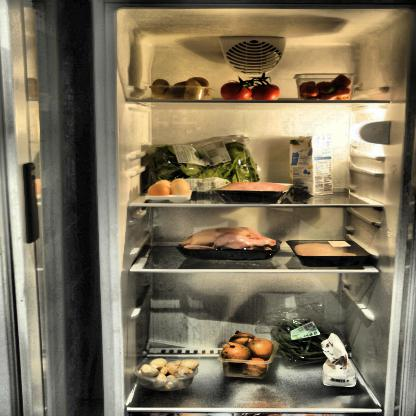chicken: (174, 226, 278, 260), (293, 242, 362, 262)
eggs: (146, 177, 188, 199)
green_beans: (267, 318, 349, 366)
ground_beef: (233, 182, 310, 203)
milk: (289, 134, 335, 196)
mushrooms: (135, 357, 198, 389)
onion: (218, 330, 272, 377)
potato: (152, 77, 210, 100)
spinach: (144, 139, 261, 194)
strawberries: (298, 74, 352, 102)
tomato: (218, 74, 282, 101)
